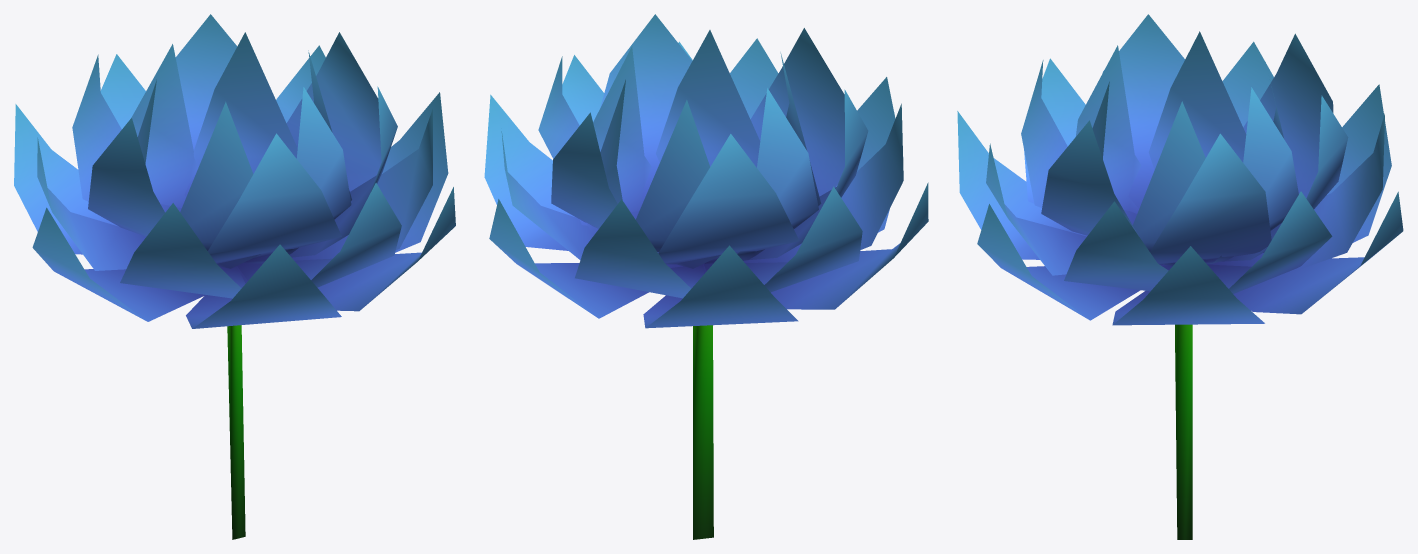
Rendered from flower (12)_LOD2.fbx.
The picture shows the model from 3 angles, left to right: view 1: azimuth 30°, elevation 25°; view 2: azimuth 150°, elevation 25°; view 3: azimuth 270°, elevation 25°; orthographic projection.
Visible parts, largest first — view 1: 11_f1; view 2: 11_f1; view 3: 11_f1.
Part boxes in pixels (<box>): 11_f1: <box>14,14,455,539</box>; 11_f1: <box>484,14,928,539</box>; 11_f1: <box>957,14,1403,539</box>.
Size of the model in its own units: 106 by 115 by 99.02.
